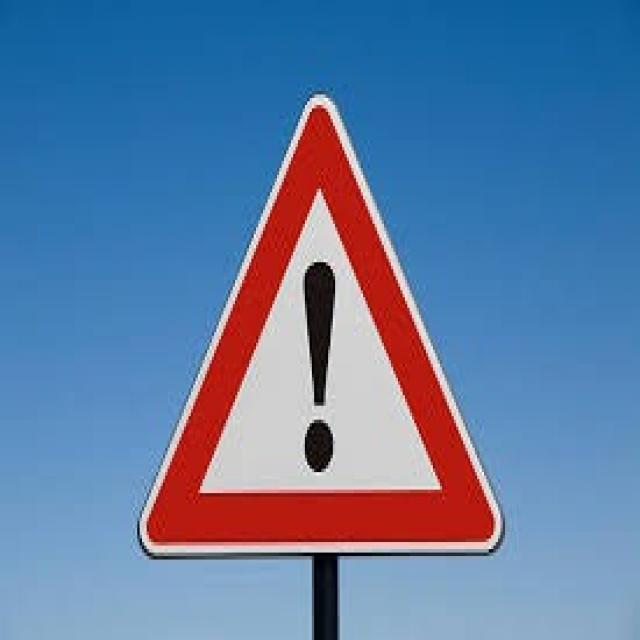warning: (132, 87, 507, 566)
